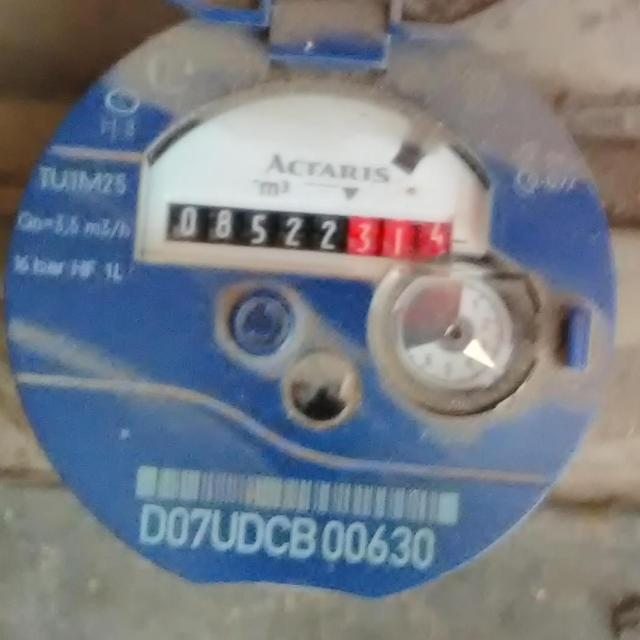gaz_meter: (0, 11, 619, 586)
indication: (167, 199, 457, 264)
